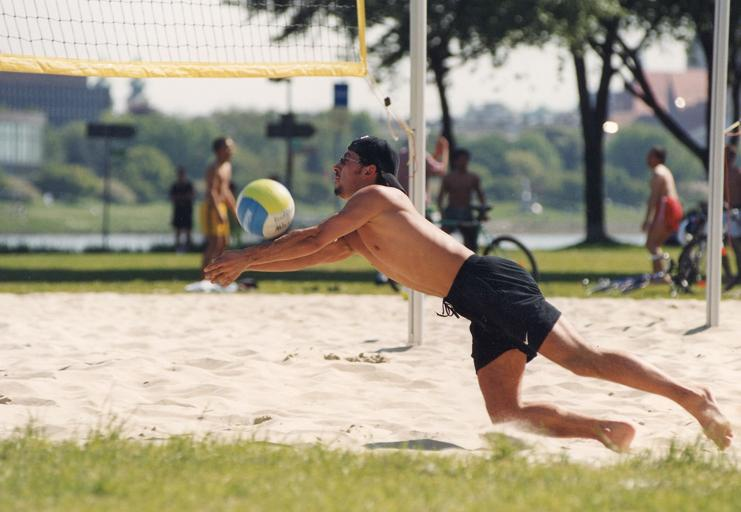non-vehicle: (385, 202, 542, 300), (670, 203, 741, 297), (577, 251, 676, 296)
